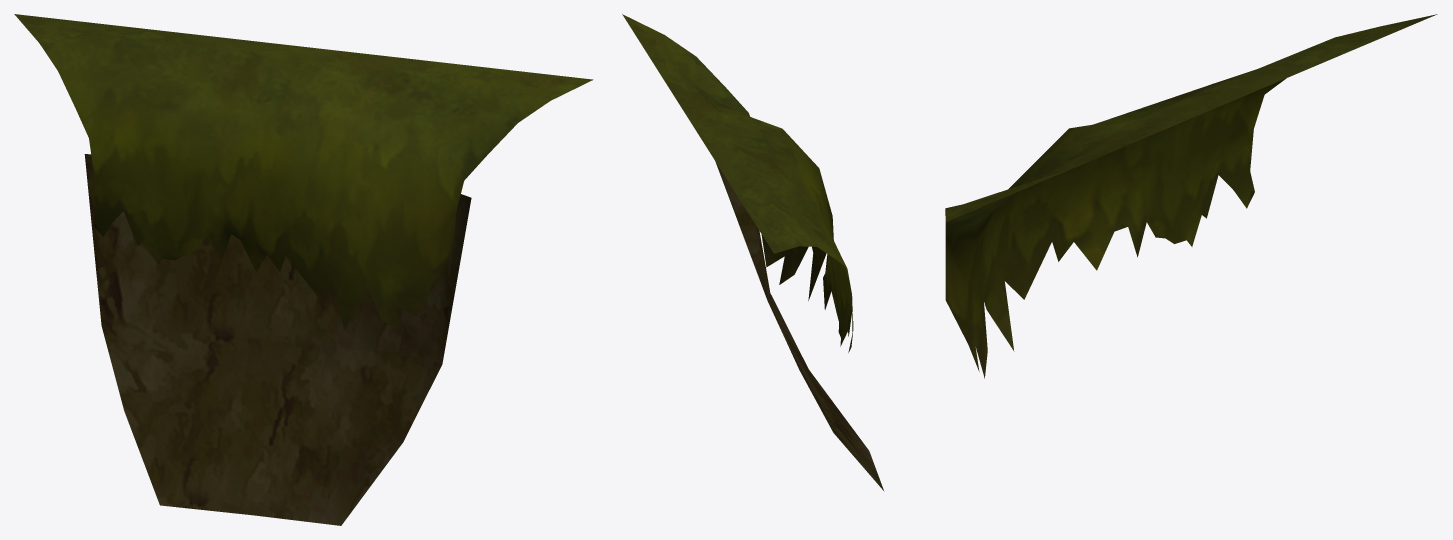
File: lumina_trim_diagonal4_p2_01.FBX
3 views of the same model, side by side, from view 1: azimuth 30°, elevation 25°; view 2: azimuth 150°, elevation 25°; view 3: azimuth 270°, elevation 25° (orthographic). The views are drawn at different scales.
Visible parts, largest first — view 1: lumina_trim_diagonal4_p2_01; view 2: lumina_trim_diagonal4_p2_01; view 3: lumina_trim_diagonal4_p2_01.
Part boxes in pixels (x1=…): lumina_trim_diagonal4_p2_01: x1=14, y1=14, x2=593, y2=525; lumina_trim_diagonal4_p2_01: x1=622, y1=14, x2=884, y2=491; lumina_trim_diagonal4_p2_01: x1=945, y1=14, x2=1437, y2=378.
Bounding box in the file's own units: 4 × 4.03 × 4.
